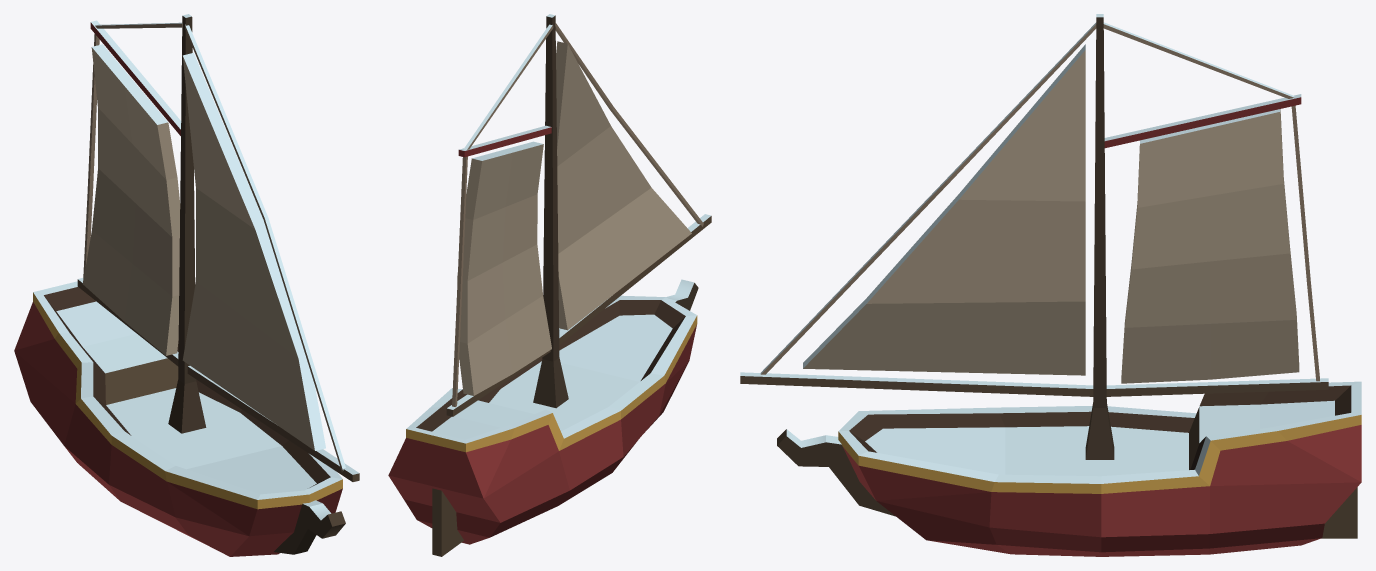
Rendered from SM_Prop_Pirate_Boat_02_Snow.fbx.
The picture shows the model from 3 angles, left to right: view 1: azimuth 30°, elevation 25°; view 2: azimuth 150°, elevation 25°; view 3: azimuth 270°, elevation 25°; orthographic projection. The views are drawn at different scales.
Parts seen in each view (by area): view 1: SM_Prop_Pirate_Boat_02_Snow; view 2: SM_Prop_Pirate_Boat_02_Snow; view 3: SM_Prop_Pirate_Boat_02_Snow.
Boxes of the visible parts, x1,y1,x2,y2 form: SM_Prop_Pirate_Boat_02_Snow: (14,14,359,556); SM_Prop_Pirate_Boat_02_Snow: (388,14,711,556); SM_Prop_Pirate_Boat_02_Snow: (740,14,1361,556).
Bounding box in the file's own units: 48.31 × 146 × 156.
Materials: 1 (1 with a texture image).
